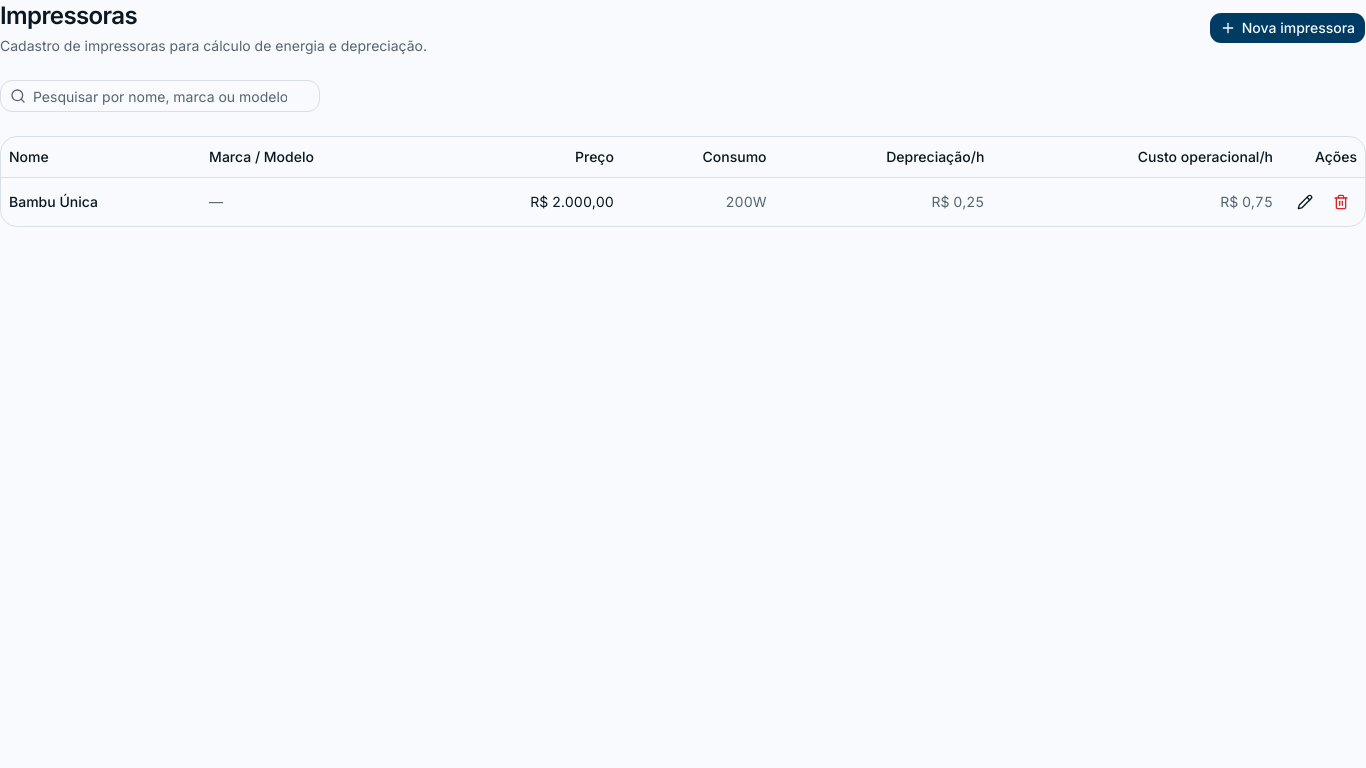
PrintersPage › impede o cadastro de uma impressora com nome já existente
Check: the text "Bambu Única" is shown, box x1=1 y1=177 x2=201 y2=226
Click the button "Nova impressora" at (1287, 28), box x1=1209 y1=12 x2=1365 y2=44
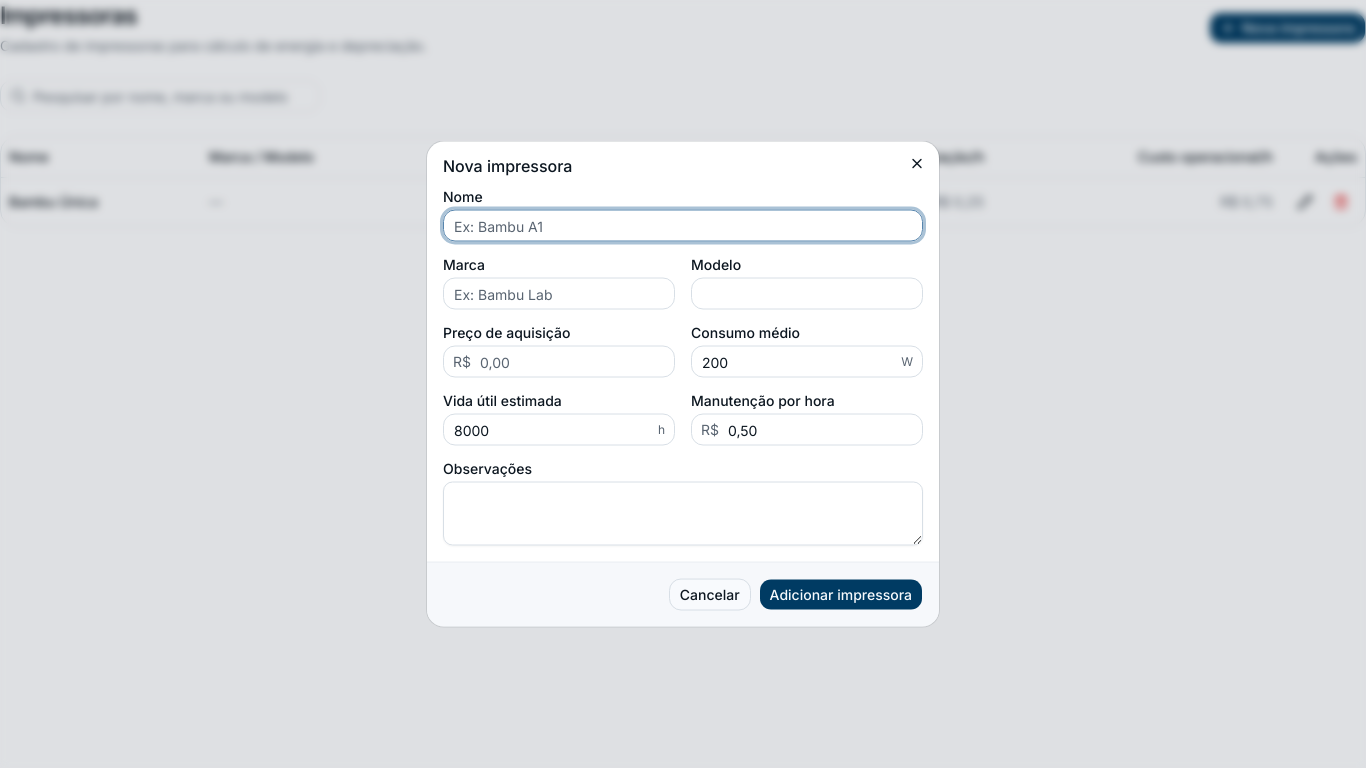
Type "Bambu Única" into the field labelled "Nome" at (683, 226), box x1=443 y1=210 x2=923 y2=242
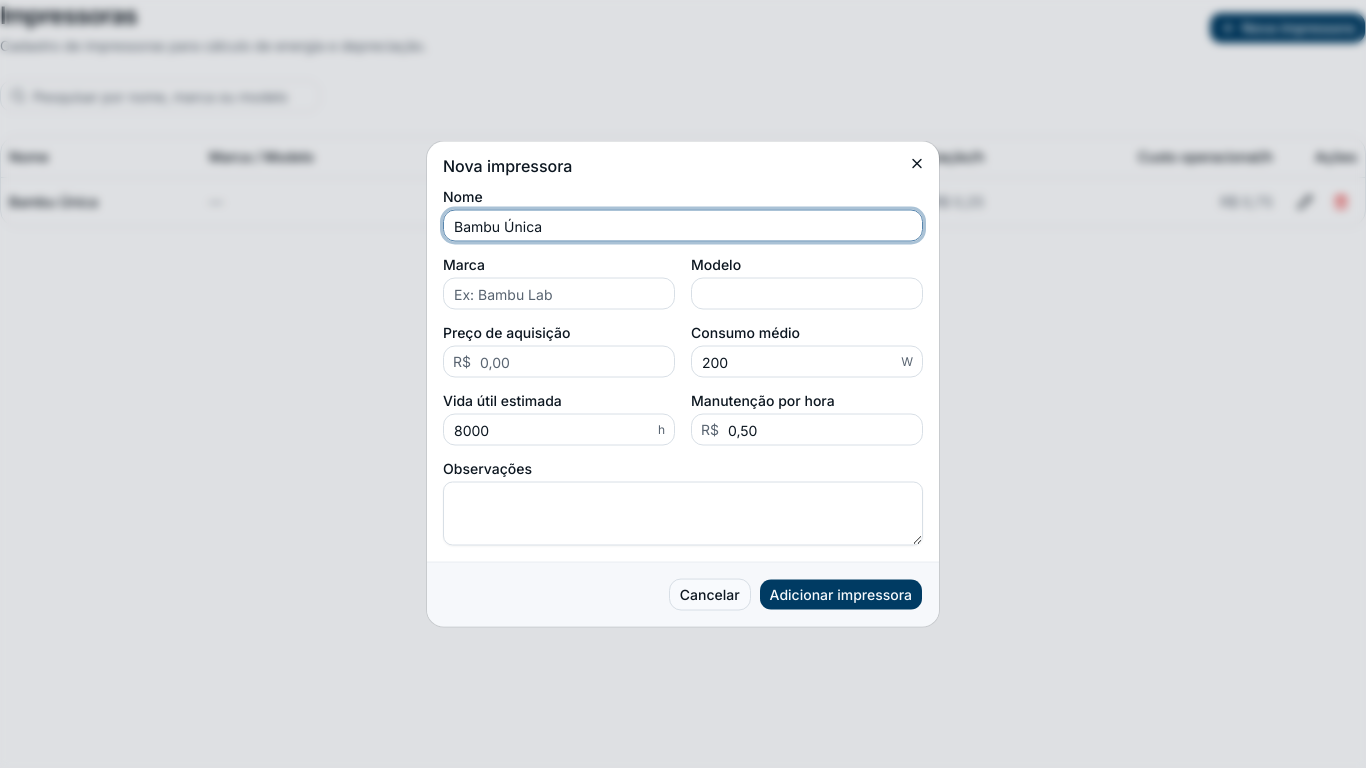
Type "500,00" into the field labelled "Preço de aquisição" at (559, 362), box x1=443 y1=346 x2=675 y2=378
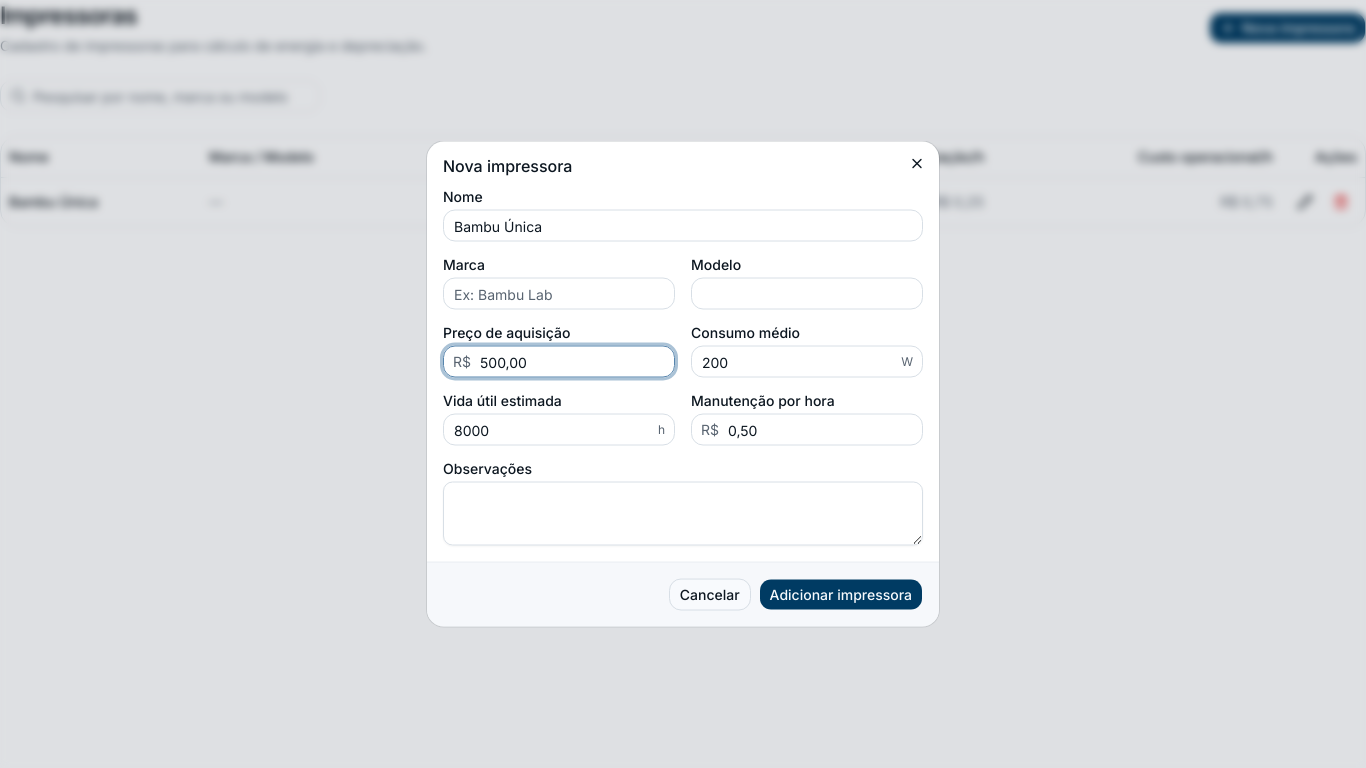
Click the button "Adicionar impressora" at (841, 594), box x1=759 y1=578 x2=923 y2=610
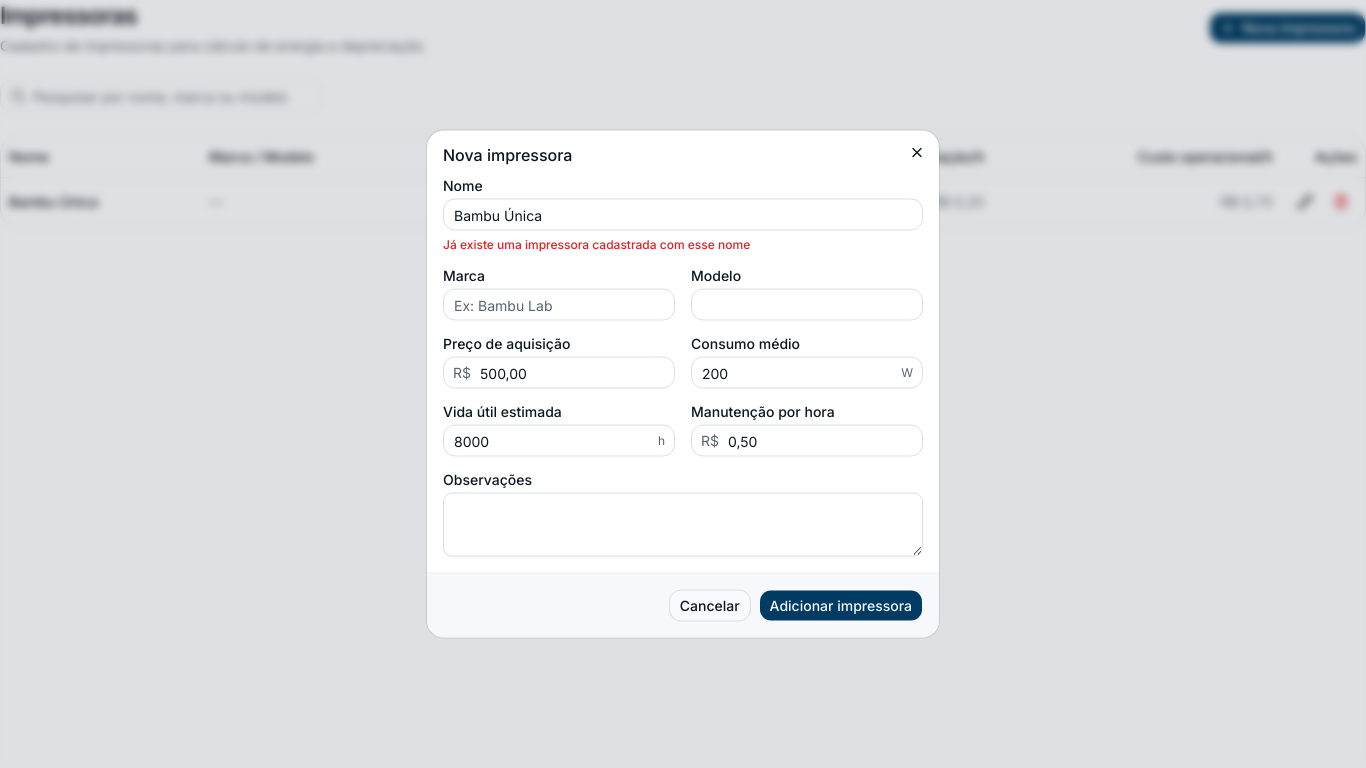
Check: the text "Já existe uma impressora cadastrada com esse nome" is shown, box x1=443 y1=236 x2=750 y2=252
